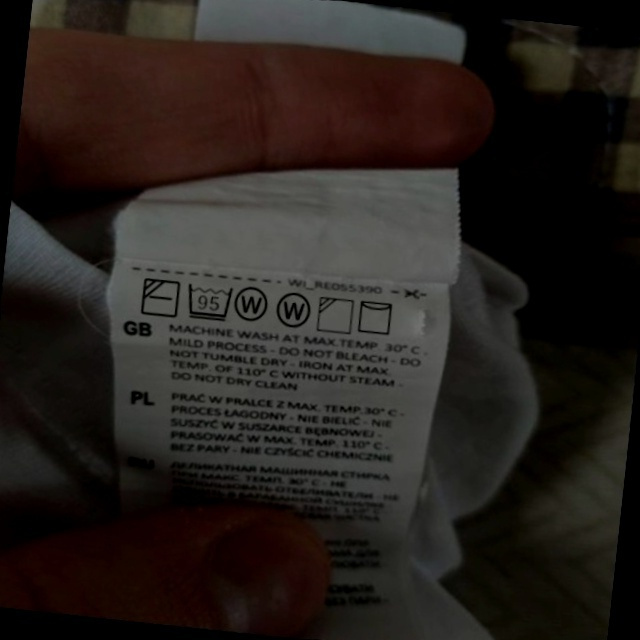95C: (180, 276, 238, 326)
dry_flat_in_shade: (135, 271, 185, 323)
line_dry: (352, 293, 400, 341)
shade_dry: (312, 291, 360, 339)
wet_clean: (271, 287, 317, 335), (230, 278, 275, 327)
